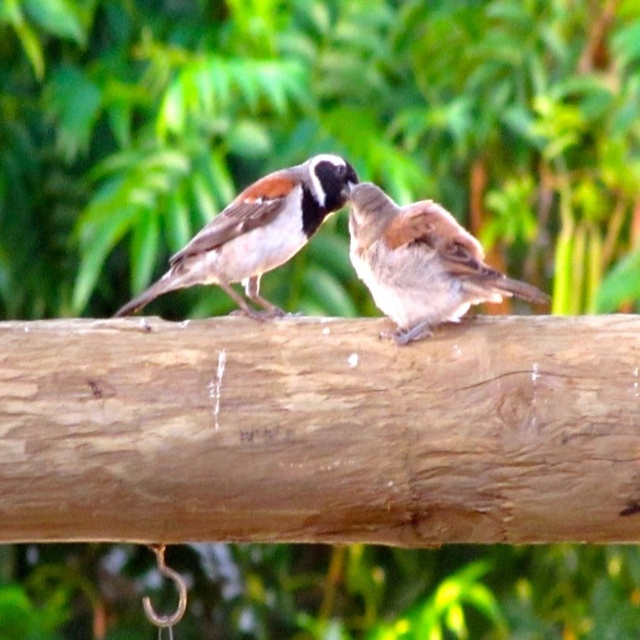Sparrow: (117, 153, 361, 324), (349, 180, 551, 343)
